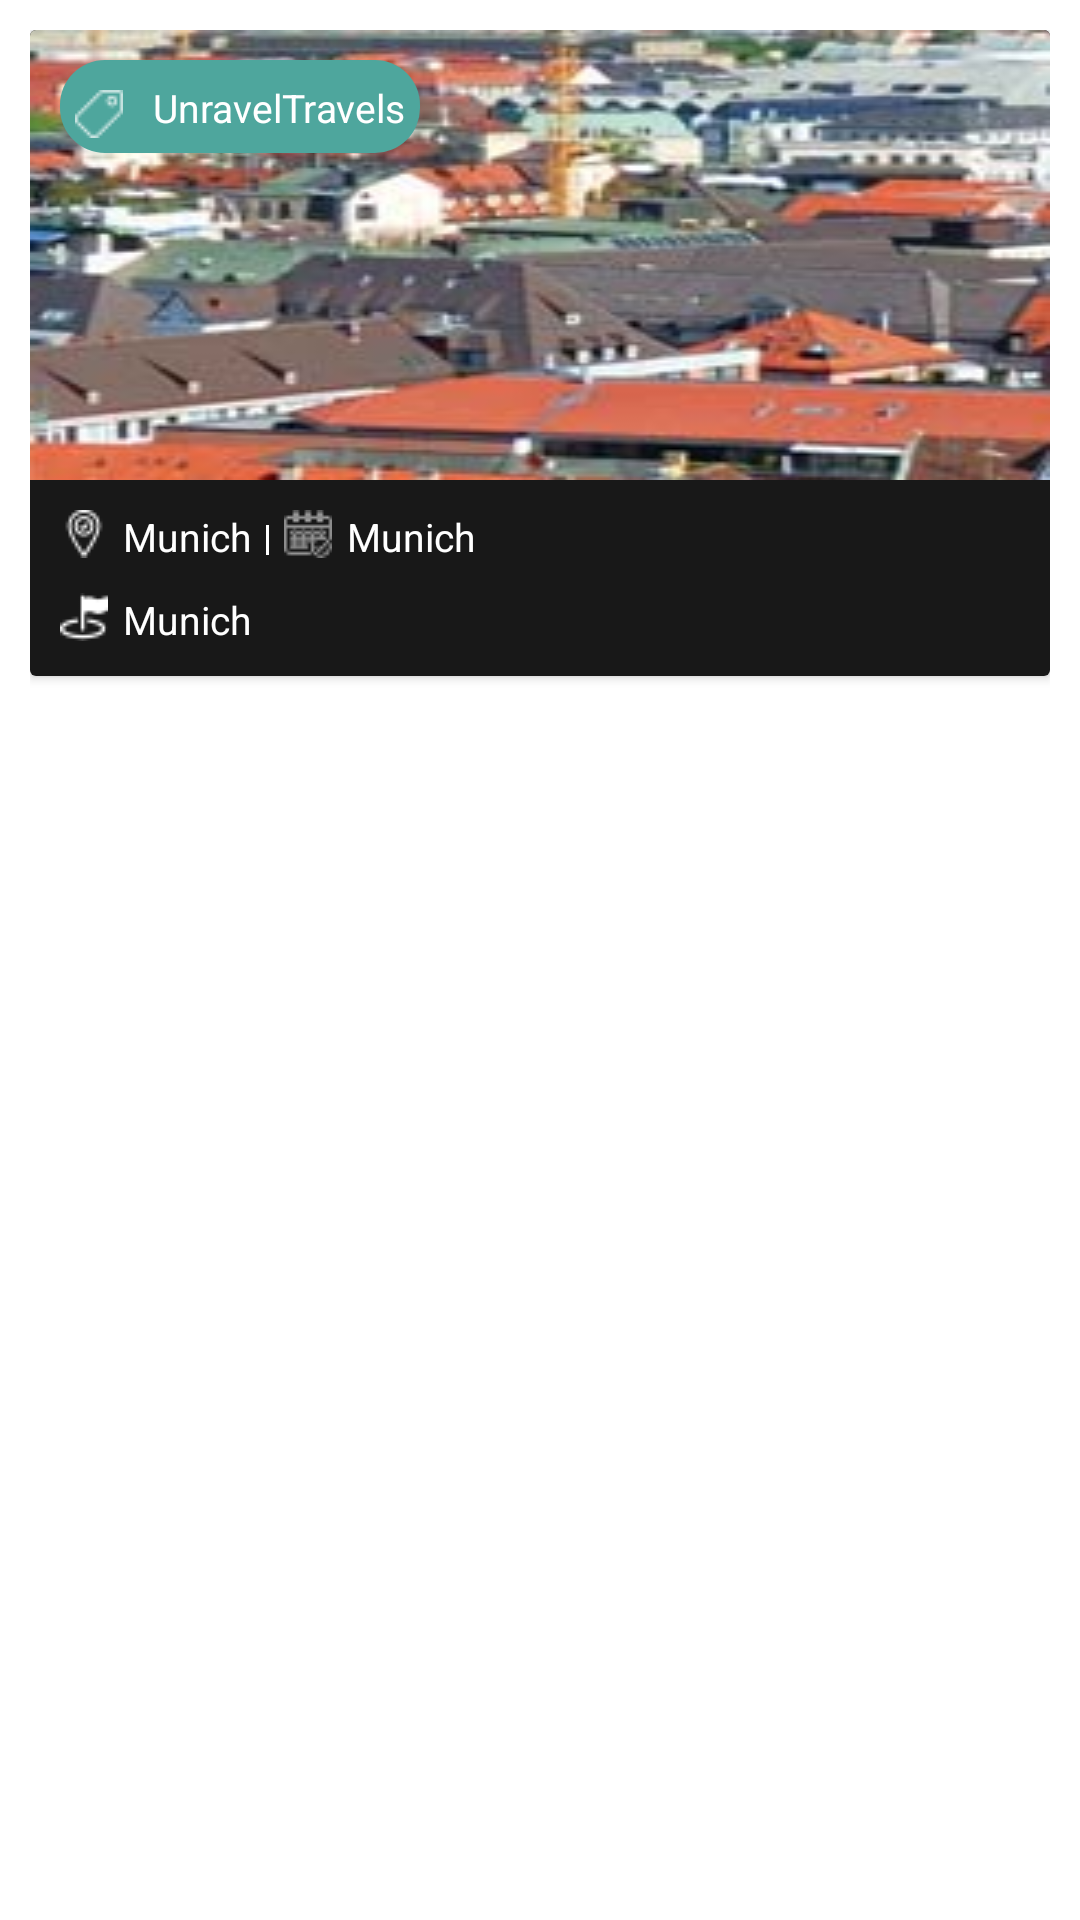

Screen size 1080×1920. Icon name, then its box in pixels as box=[x1, y1, x2, y2]:
calendar: box=[284, 510, 332, 558]
destination: box=[60, 595, 108, 641]
location: box=[66, 510, 102, 558]
price tag: box=[75, 90, 123, 138]
